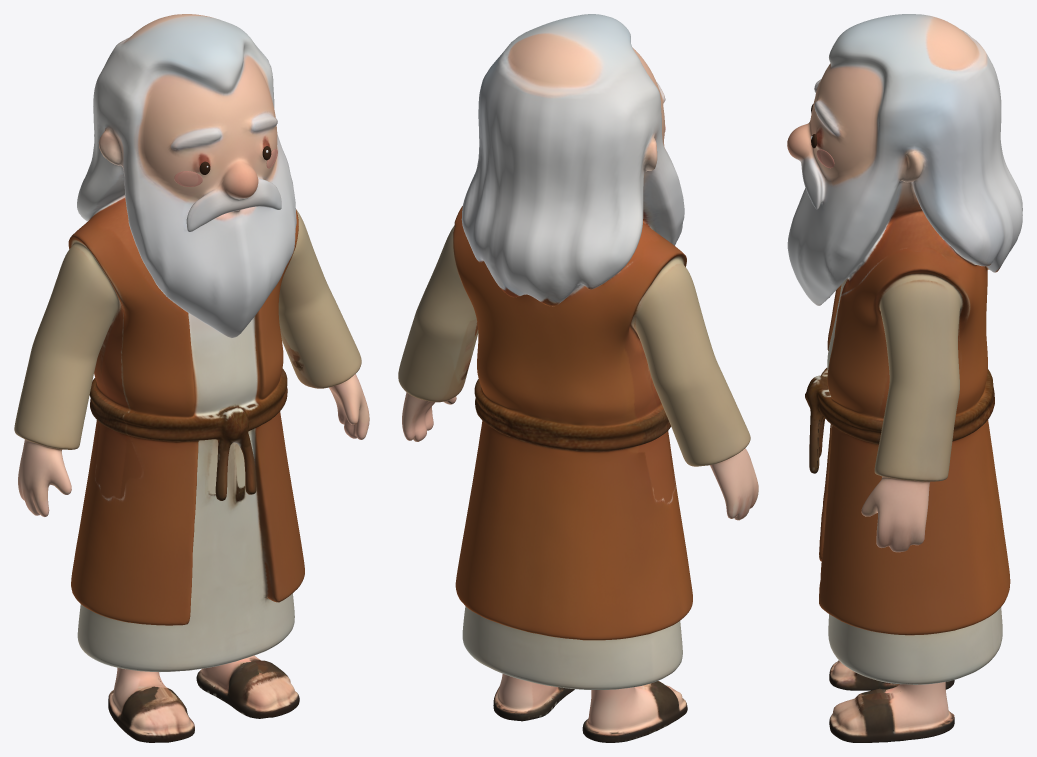
The model's file is noah_rodin_polished.glb.
3 renders of one model, left to right at view 1: azimuth 30°, elevation 25°; view 2: azimuth 150°, elevation 25°; view 3: azimuth 270°, elevation 25°, orthographic.
Visible parts, largest first — view 1: model; view 2: model; view 3: model.
Part boxes in pixels (x1,y1,x2,y2): model: (14, 14, 369, 742); model: (398, 14, 758, 742); model: (787, 14, 1022, 742).
Bounding box in the file's own units: 0.8079 × 1.55 × 0.4864.
4 materials, 1 textured.
